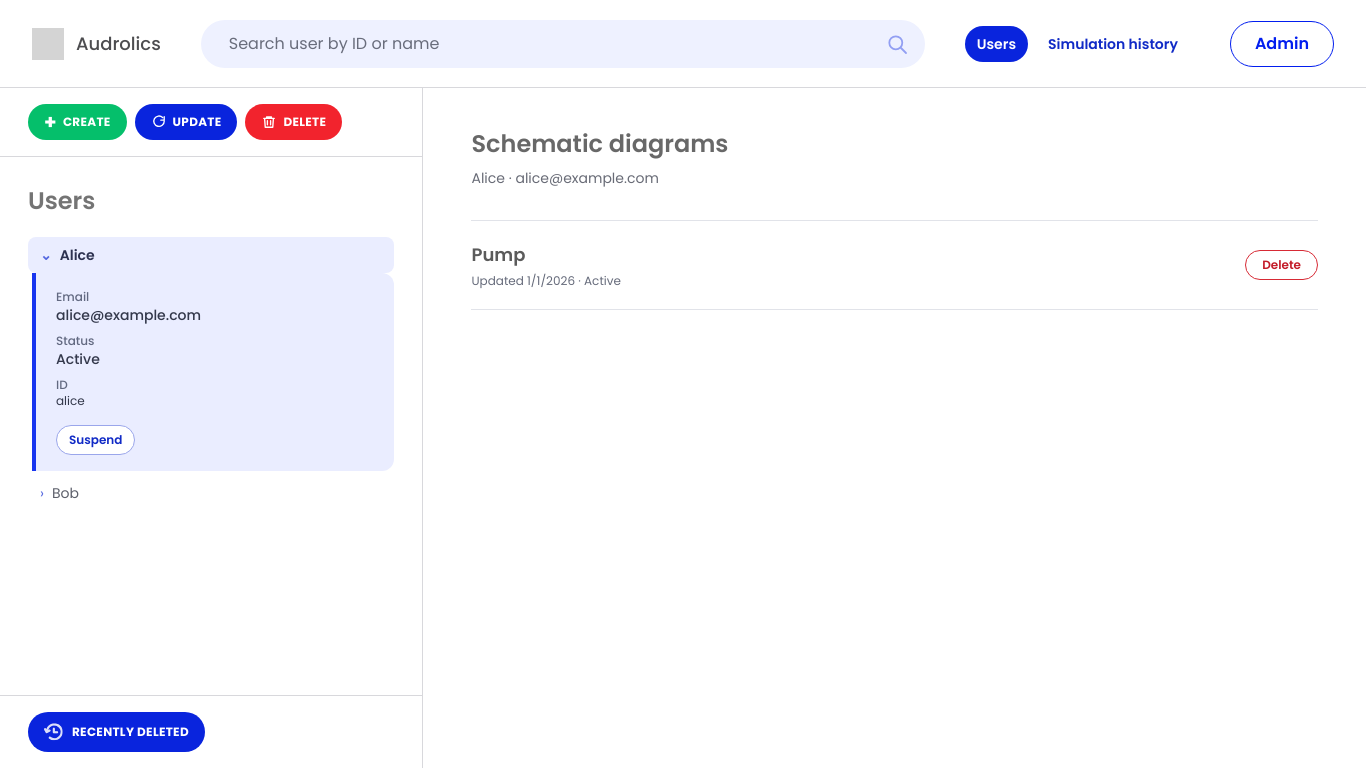
Test: searches users and shows only the selected user's schematic metadata
The width and height of the screenshot is (1366, 768).
Expected: the heading "Pump" is shown, [472,242,525,267]
Type "bob" into the search field named "search users" at (563, 44), box [201,20,925,68]
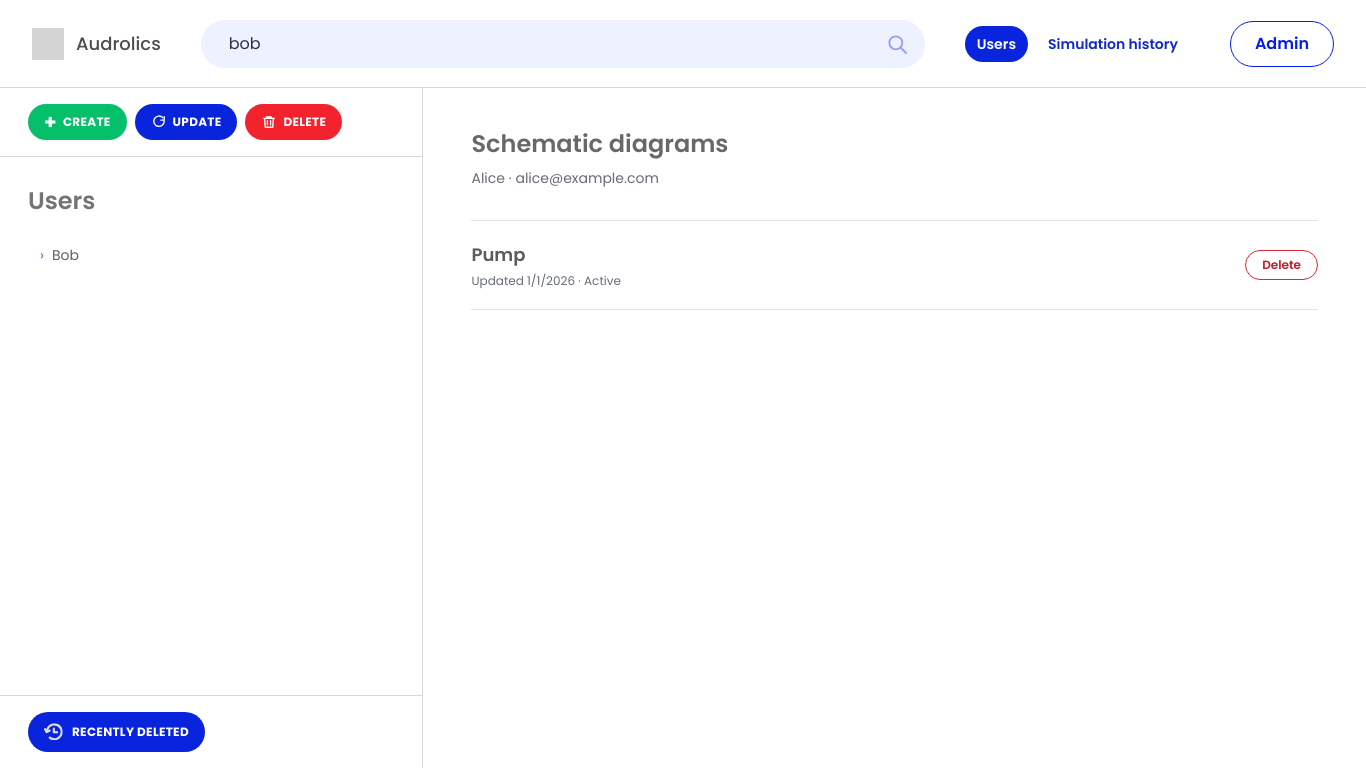
Click the button "›Bob" at (42, 255), box [28,237,394,273]
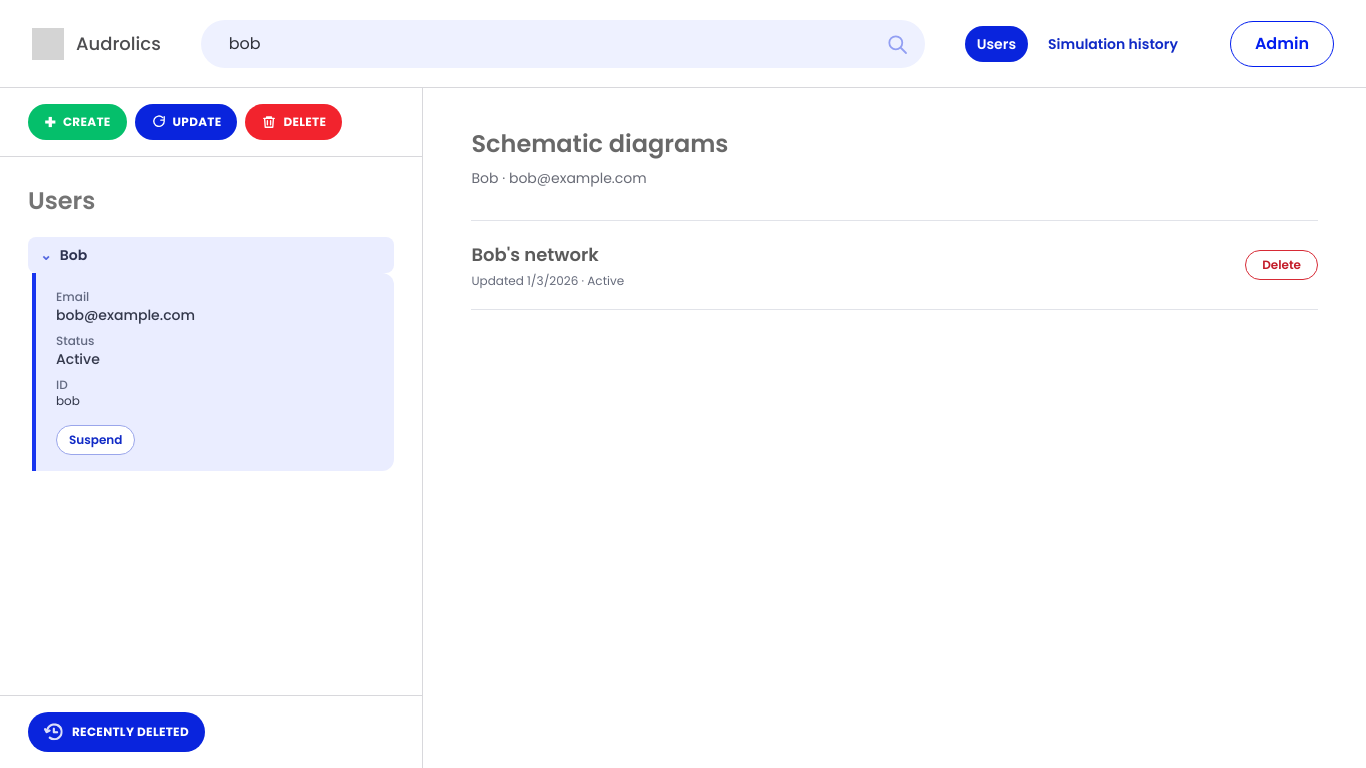
Result: the heading "Bob's network" is shown at [472,242,599,267]
Result: the heading "Pump" is gone
